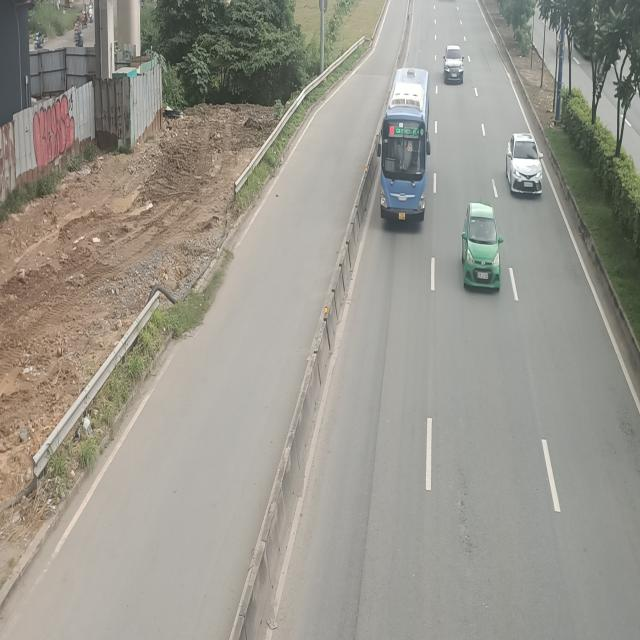car: (462, 199, 505, 290), (508, 132, 546, 194), (444, 45, 466, 85)
coach: (377, 67, 431, 224)
